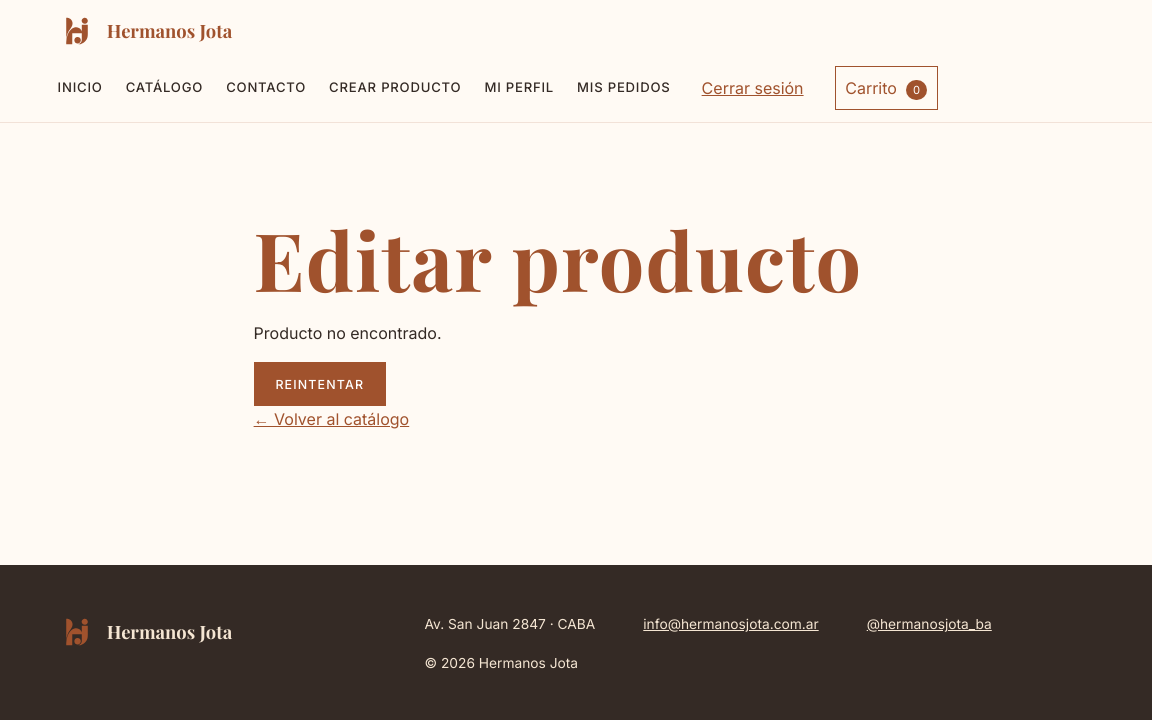
Test case: edición muestra producto inexistente y permite reintentar la carga
Expected: the text "Producto no encontrado." is shown, [254,323,442,343]
Expected: the button "Guardar cambios" is not shown
Click the button "Reintentar": [320, 384] box [254,362,386,406]
(page scrolled)
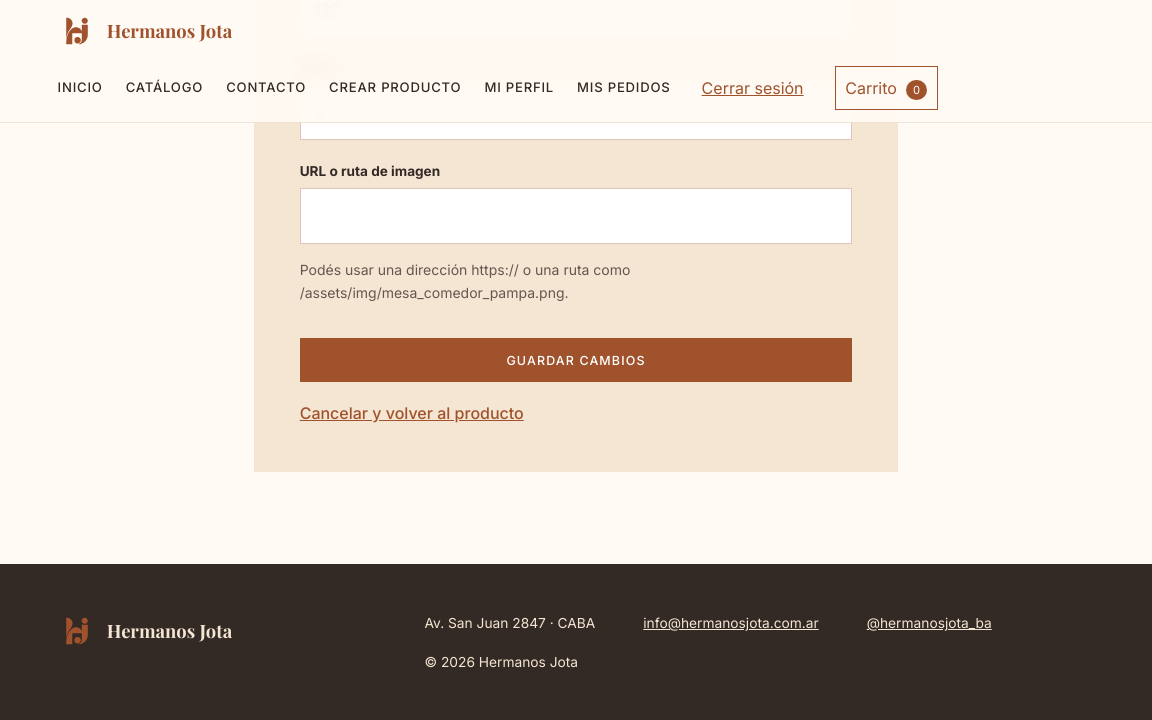
Expected: the button "Guardar cambios" is shown, [300,338,852,382]
